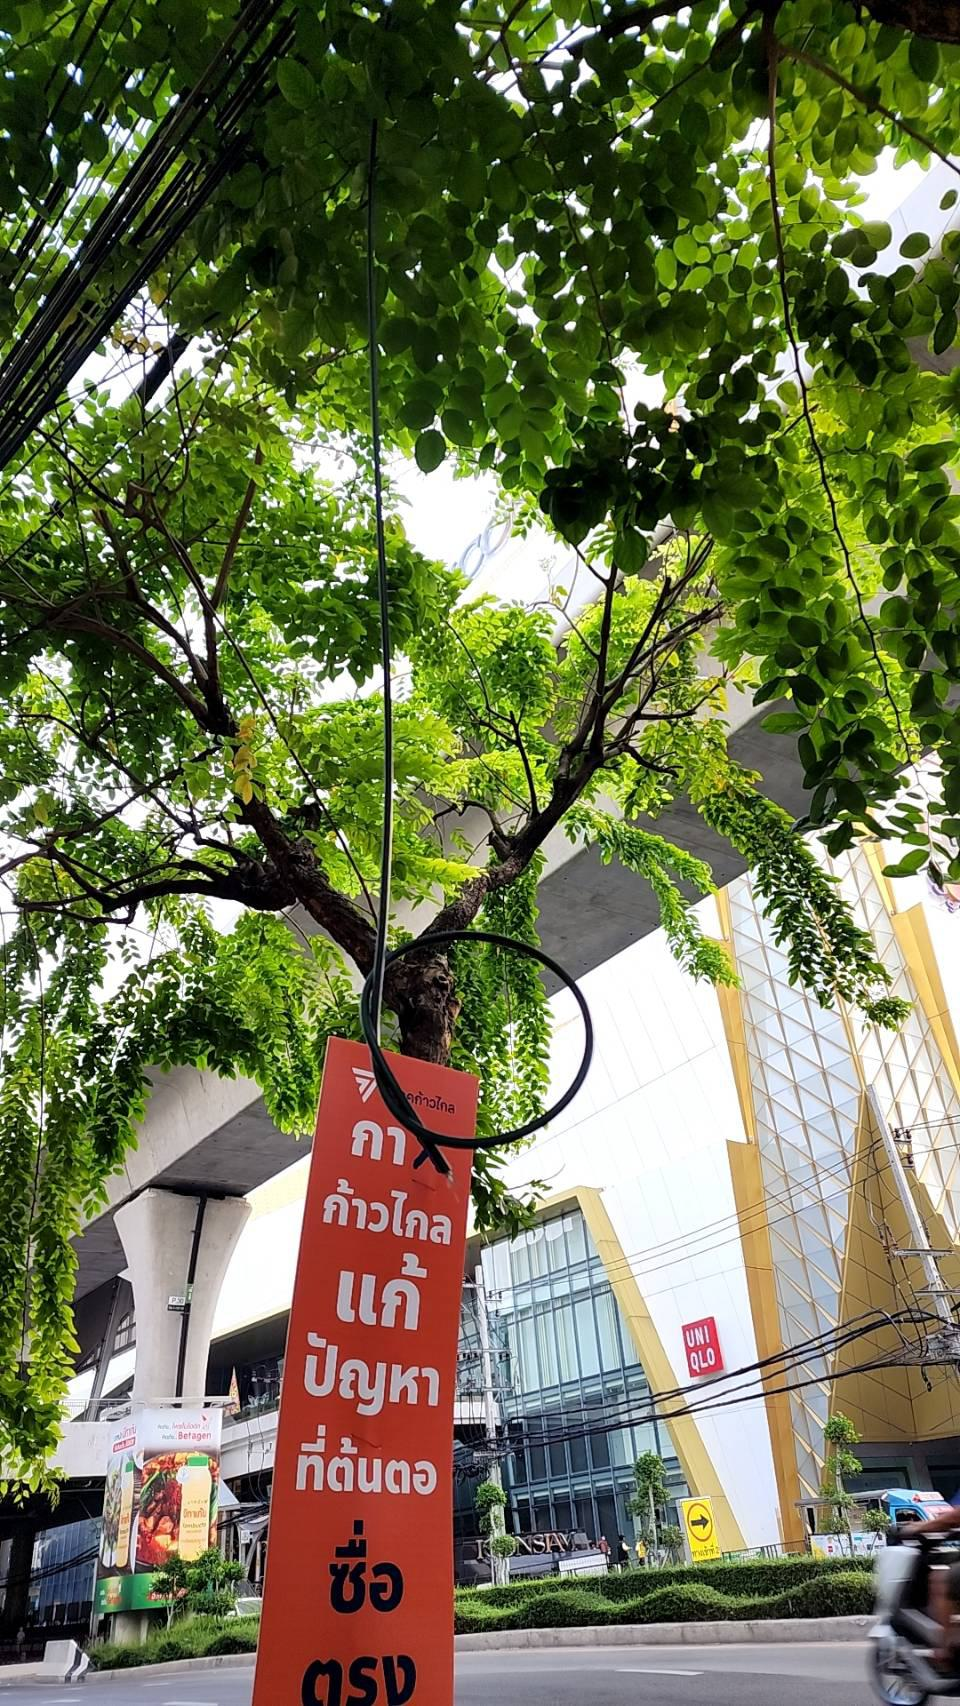Banner: (241, 1022, 467, 1706)
